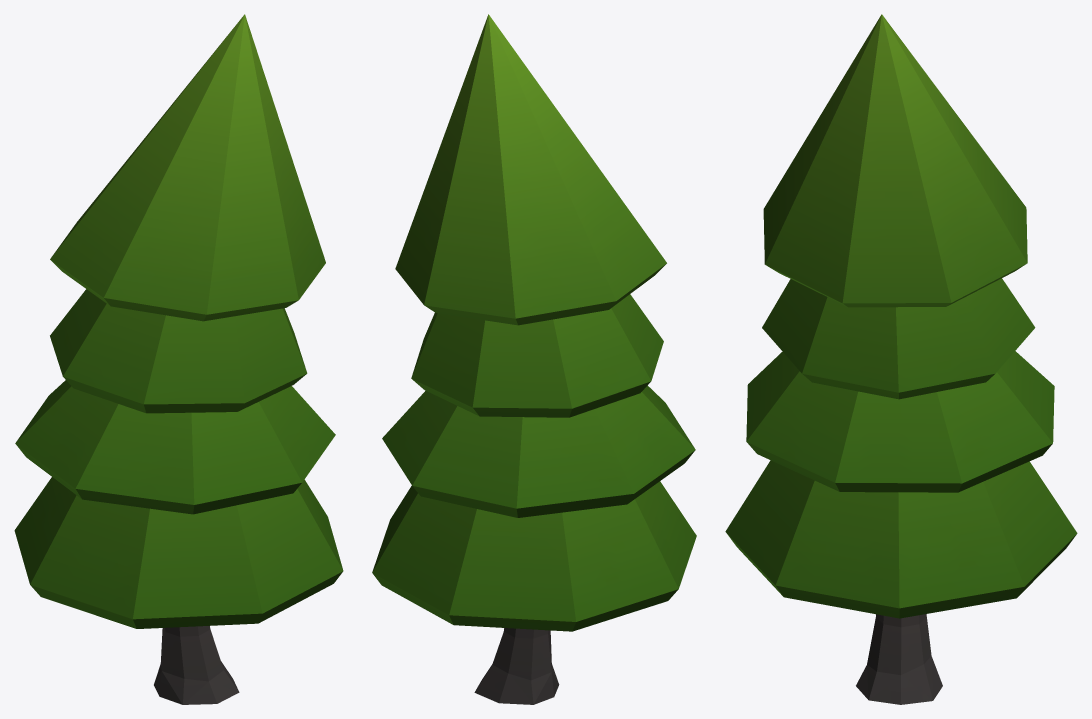
Rendered from PineTree_D.fbx.
3 renders of one model, left to right at view 1: azimuth 30°, elevation 25°; view 2: azimuth 150°, elevation 25°; view 3: azimuth 270°, elevation 25°, orthographic. The views are drawn at different scales.
Visible parts, largest first — view 1: PineTree_D; view 2: PineTree_D; view 3: PineTree_D.
Boxes of the visible parts, left/top/right/bottom form: PineTree_D: left=14, top=14, right=343, bottom=704; PineTree_D: left=372, top=14, right=696, bottom=704; PineTree_D: left=725, top=14, right=1077, bottom=704.
Bounding box in the file's own units: 246 × 532 × 245.
